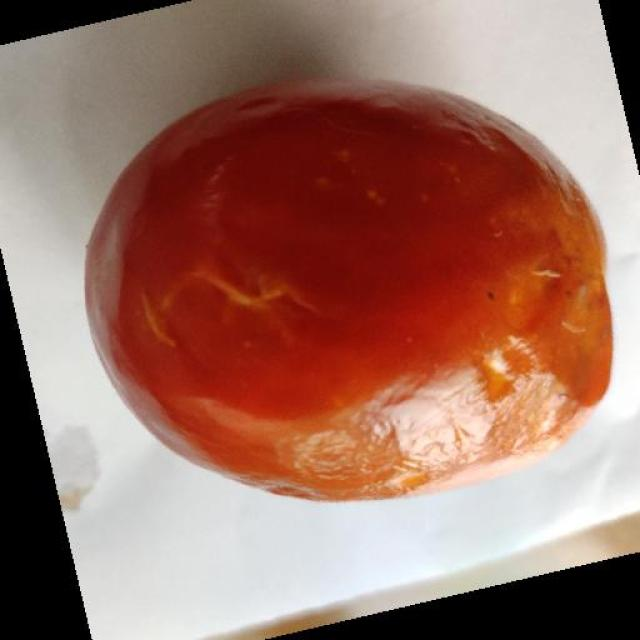Stale_tomato: (113, 75, 609, 484)
